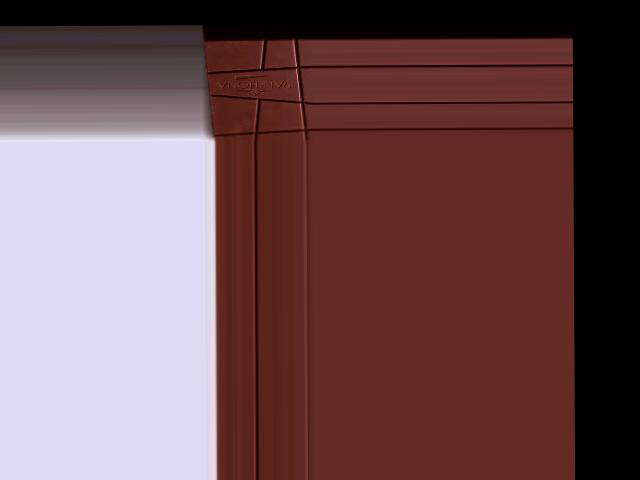chocolate: (201, 33, 313, 140)
